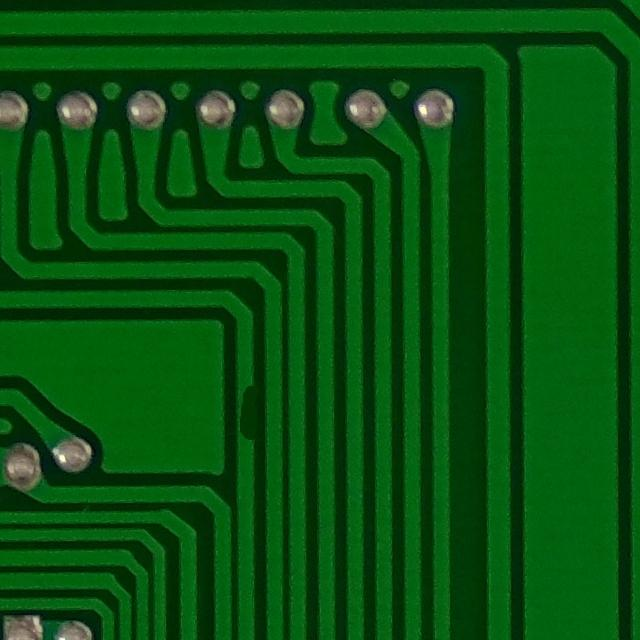mouse_bite: (231, 375, 262, 457)
